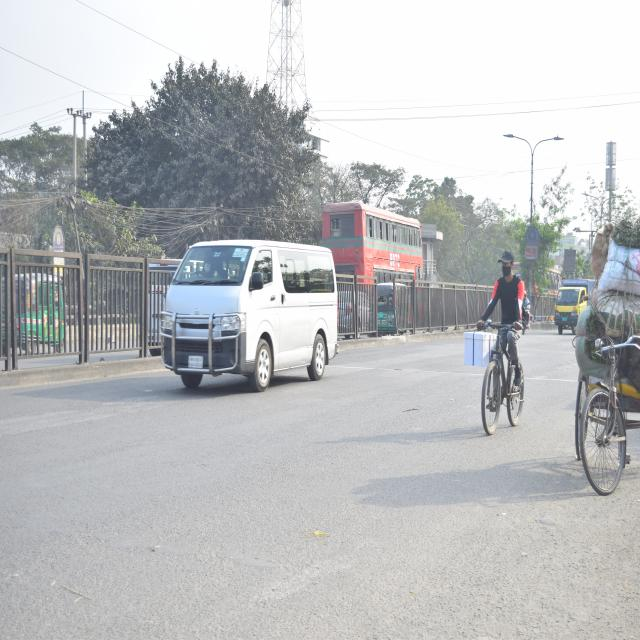microbus: (163, 230, 342, 395)
pickup-van: (550, 274, 596, 338)
